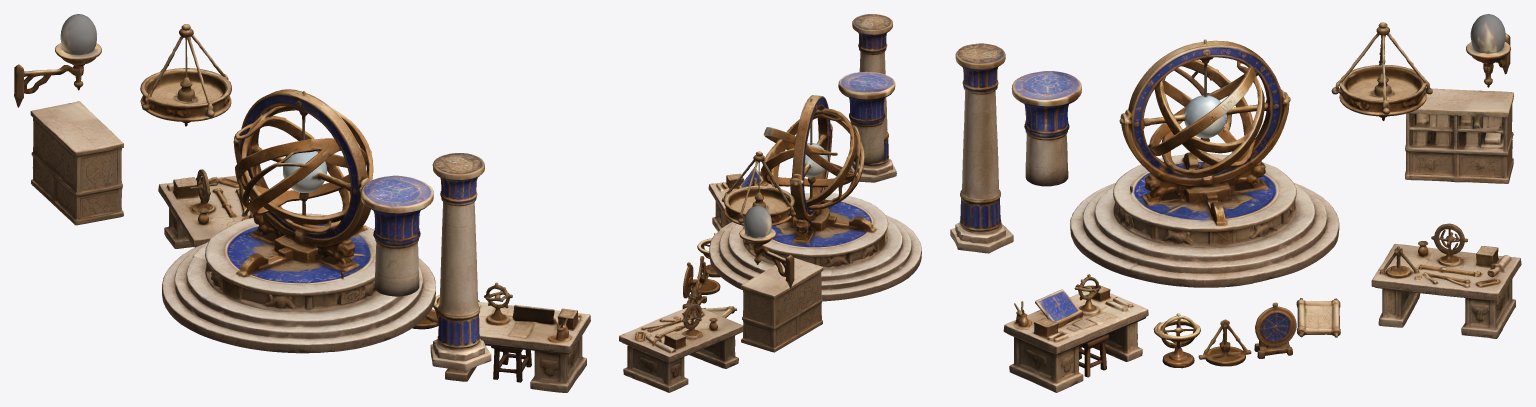
The model's file is اثاث المرصد.glb.
3 views of the same model, side by side, from view 1: azimuth 30°, elevation 25°; view 2: azimuth 150°, elevation 25°; view 3: azimuth 270°, elevation 25° (orthographic). The views are drawn at different scales.
Visible parts, largest first — view 1: world; view 2: world; view 3: world.
Part boxes in pixels (x1,y1,x2,y2): world: (14, 14, 590, 392); world: (619, 14, 921, 392); world: (950, 14, 1521, 392).
Bounding box in the file's own units: 0.6653 × 0.5123 × 0.9997.
Materials: 1 (1 with a texture image).
